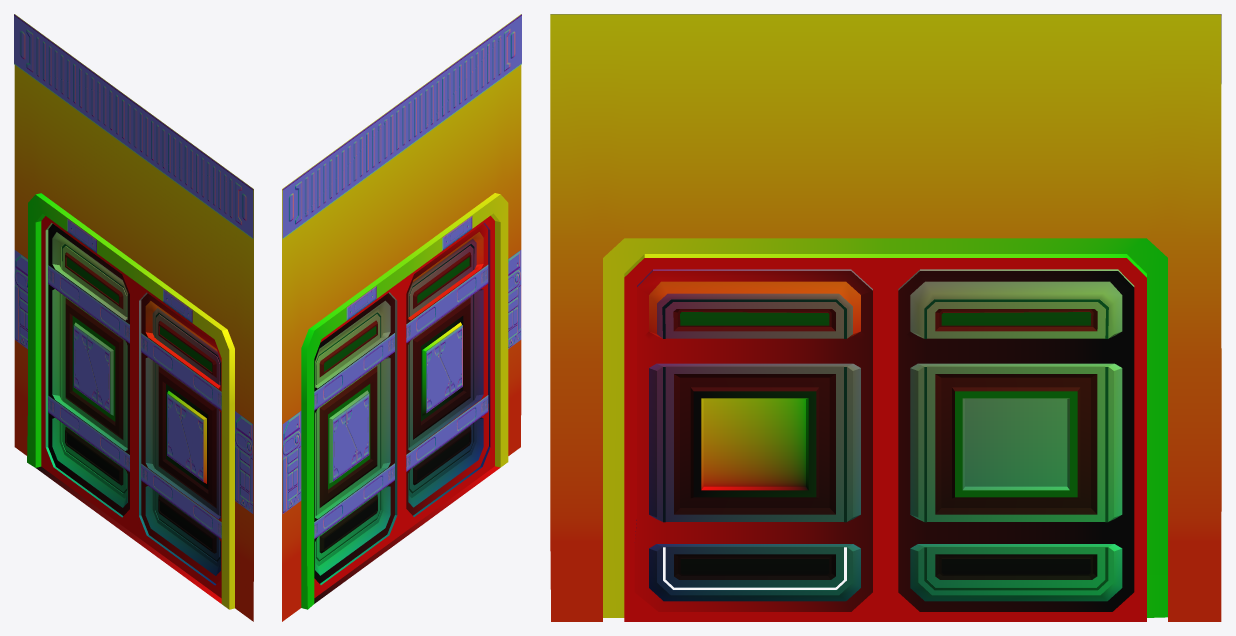
Rendered from S_assete_wall_double_door_midel_1.fbx.
3 renders of one model, left to right at view 1: azimuth 30°, elevation 25°; view 2: azimuth 150°, elevation 25°; view 3: azimuth 270°, elevation 25°, orthographic. The views are drawn at different scales.
Parts seen in each view (by area): view 1: S_basement_wall_double_door_midel_1; view 2: S_basement_wall_double_door_midel_1; view 3: S_basement_wall_double_door_midel_1.
Part boxes in pixels (bbox=[...]): S_basement_wall_double_door_midel_1: bbox=[14, 14, 253, 621]; S_basement_wall_double_door_midel_1: bbox=[282, 14, 521, 621]; S_basement_wall_double_door_midel_1: bbox=[550, 14, 1221, 621].
Bounding box in the file's own units: 13.39 × 400 × 400.
